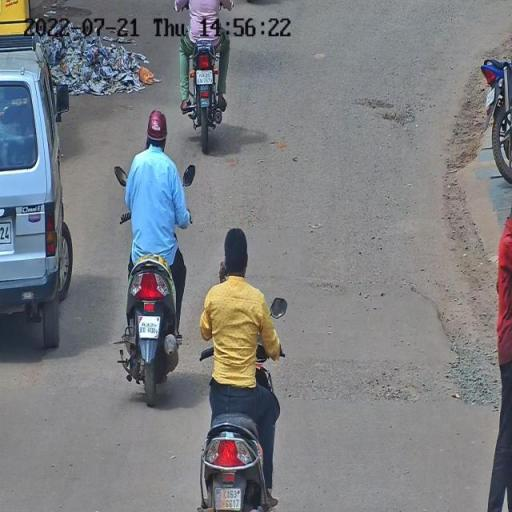using mobile: (217, 251, 227, 285)
